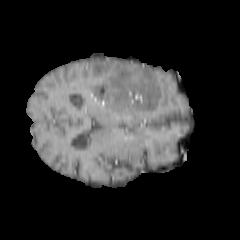glioma: (84, 68, 162, 113)
